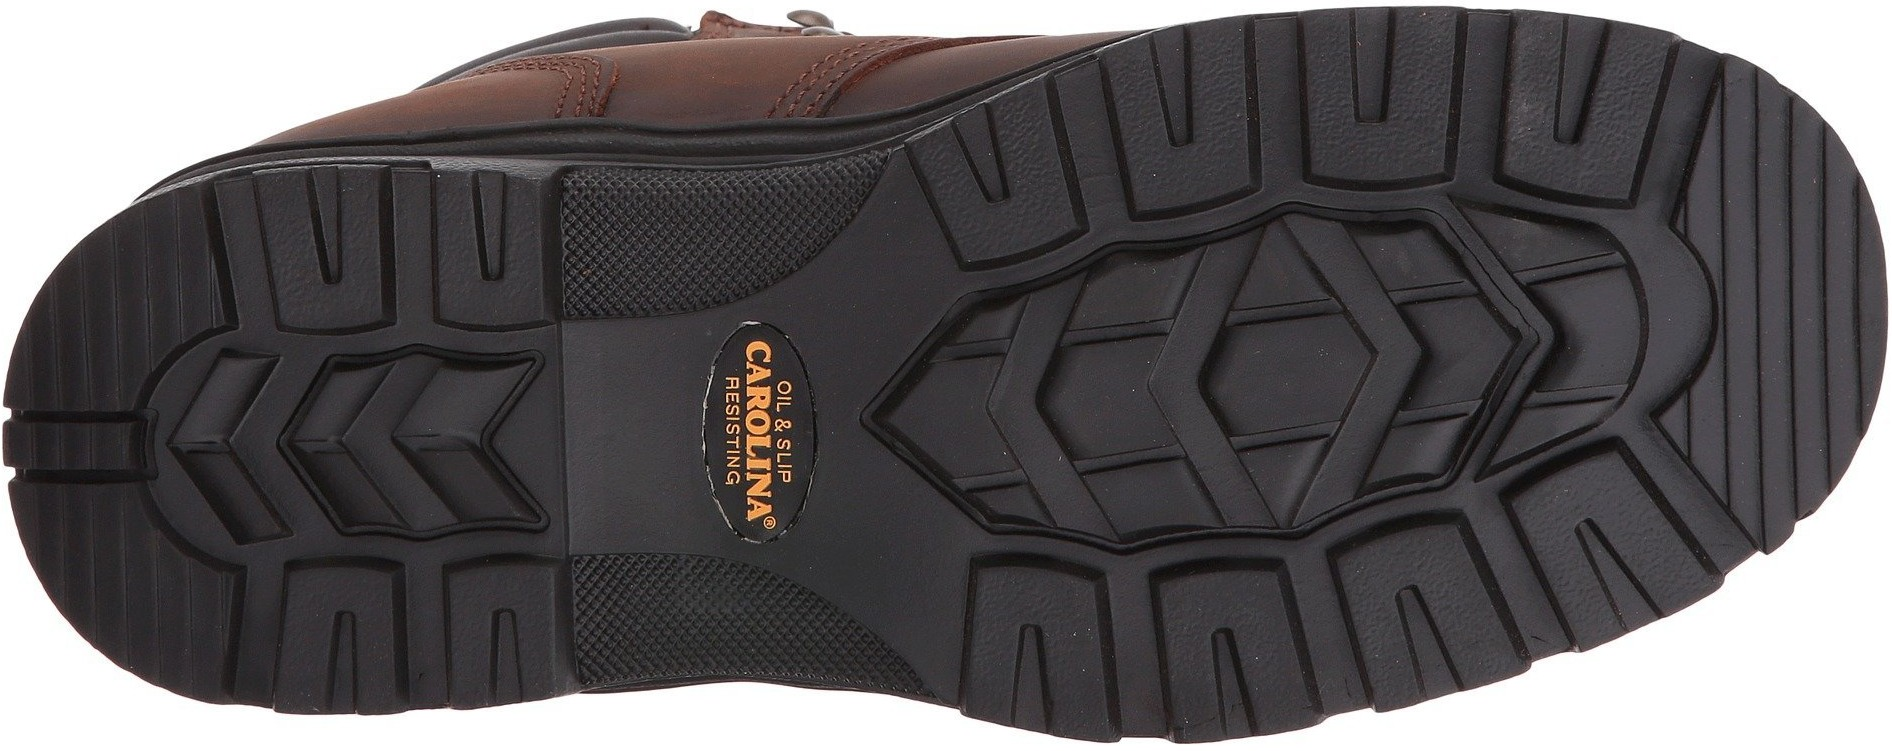chevron: (188, 330, 417, 545), (925, 297, 1160, 489), (1271, 257, 1531, 427)
other: (577, 173, 742, 310)
quad: (1707, 184, 1871, 353)
text: (705, 453, 819, 551), (708, 348, 821, 447)
